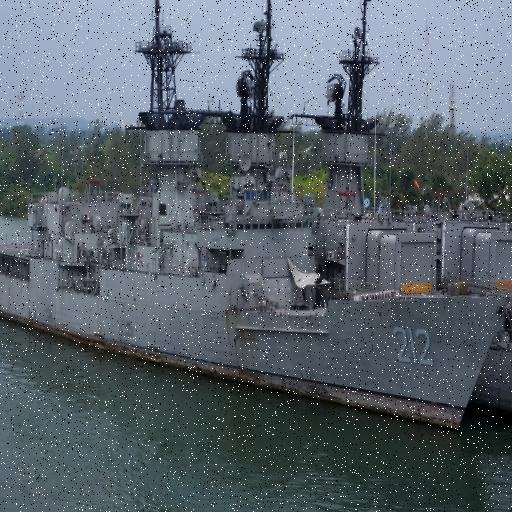Fragata: (1, 1, 512, 441)
